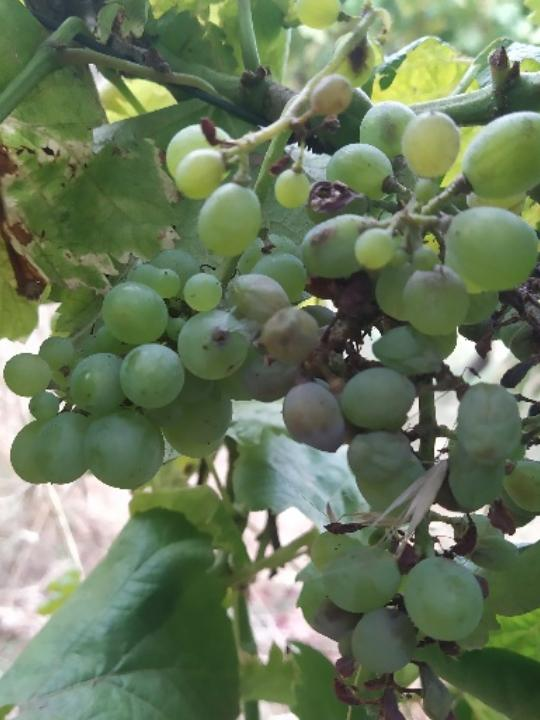grape: (161, 61, 540, 720)
